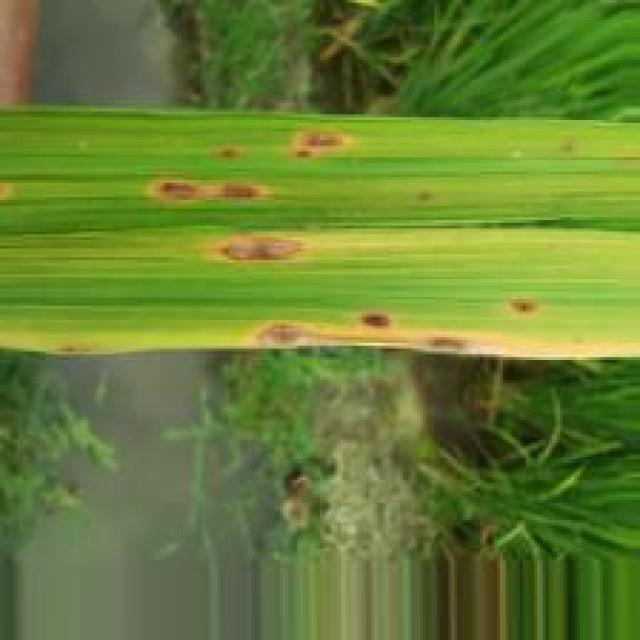Brown_Spot: (250, 319, 505, 356), (137, 175, 276, 204), (207, 231, 302, 262), (360, 314, 392, 328), (512, 300, 534, 316)
